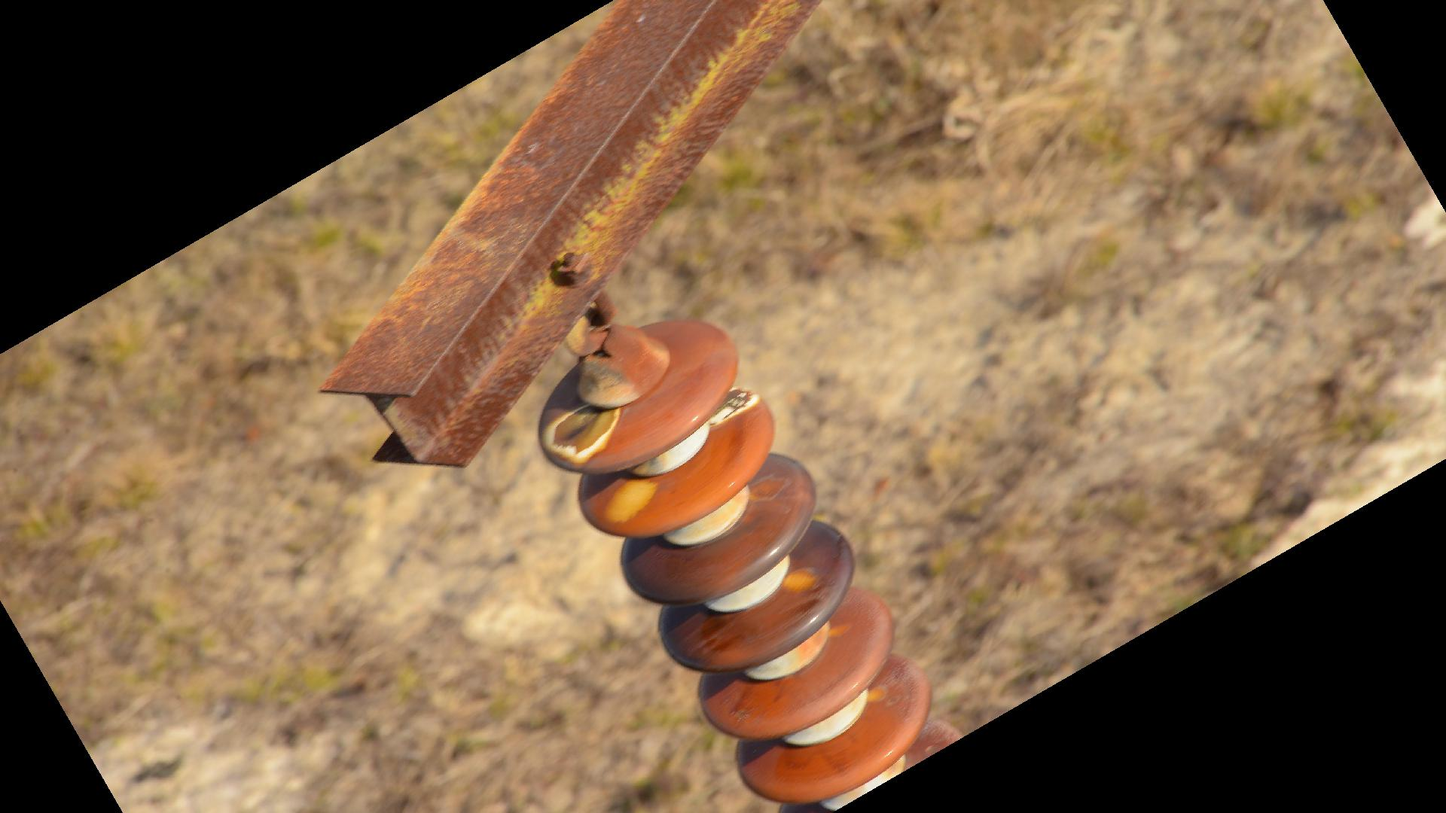insulator: (530, 315, 970, 813)
insulator_flashover: (538, 397, 624, 468), (599, 475, 659, 527), (706, 383, 759, 428), (776, 562, 833, 598)
